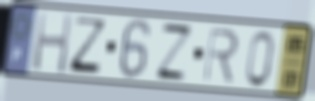0: (243, 28, 278, 90)
6: (118, 17, 153, 82)
H: (30, 10, 75, 78)
R: (201, 27, 241, 86)
Z: (153, 21, 196, 84), (66, 15, 108, 76)
